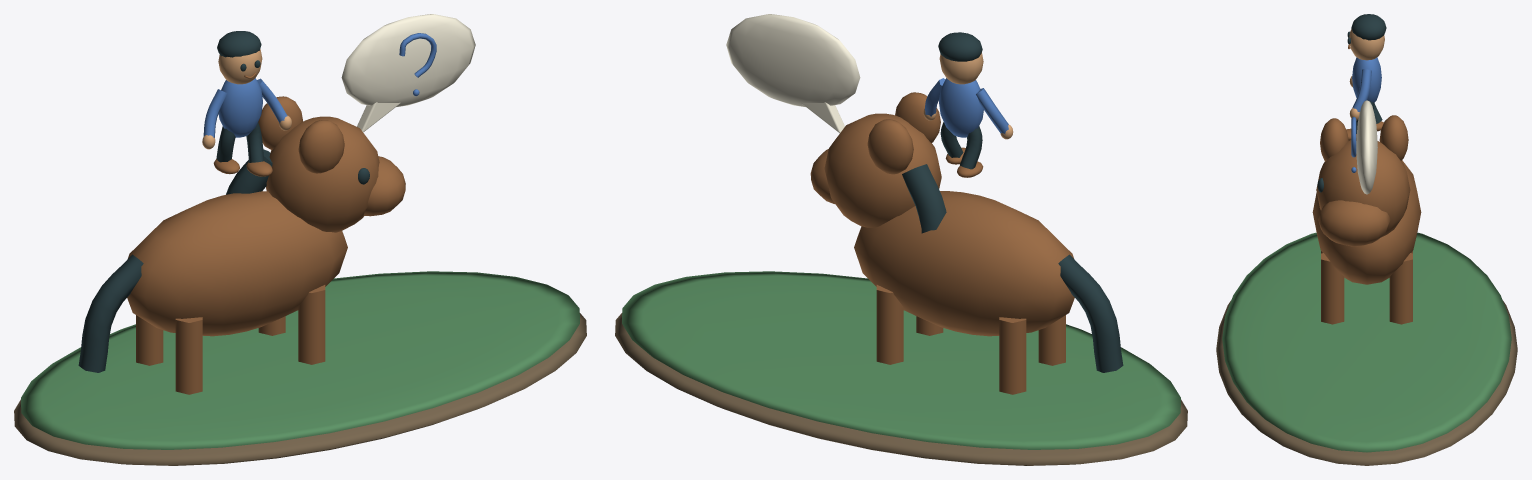
The model's file is complete-second-strange-rider.glb.
3 views of the same model, side by side, from view 1: azimuth 30°, elevation 25°; view 2: azimuth 150°, elevation 25°; view 3: azimuth 270°, elevation 25° (orthographic). The views are drawn at different scales.
Visible parts, largest first — view 1: complete-second-strange-rider_surface_01, complete-second-strange-rider_surface_02, complete-second-strange-rider_surface_00, complete-second-strange-rider_surface_04, complete-second-strange-rider_surface_03, complete-second-strange-rider_surface_05, complete-second-strange-rider_surface_06; view 2: complete-second-strange-rider_surface_01, complete-second-strange-rider_surface_02, complete-second-strange-rider_surface_00, complete-second-strange-rider_surface_04, complete-second-strange-rider_surface_03, complete-second-strange-rider_surface_05, complete-second-strange-rider_surface_06; view 3: complete-second-strange-rider_surface_01, complete-second-strange-rider_surface_02, complete-second-strange-rider_surface_00, complete-second-strange-rider_surface_04, complete-second-strange-rider_surface_05, complete-second-strange-rider_surface_03, complete-second-strange-rider_surface_06.
Part boxes in pixels (x1,y1,x2,y2): complete-second-strange-rider_surface_01: (21, 271, 579, 449); complete-second-strange-rider_surface_02: (127, 72, 405, 394); complete-second-strange-rider_surface_00: (14, 313, 586, 465); complete-second-strange-rider_surface_04: (341, 14, 475, 132); complete-second-strange-rider_surface_03: (78, 31, 369, 372); complete-second-strange-rider_surface_05: (203, 33, 436, 137); complete-second-strange-rider_surface_06: (202, 49, 291, 149); complete-second-strange-rider_surface_01: (622, 271, 1180, 449); complete-second-strange-rider_surface_02: (810, 92, 1074, 394); complete-second-strange-rider_surface_00: (615, 313, 1187, 465); complete-second-strange-rider_surface_04: (726, 14, 860, 133); complete-second-strange-rider_surface_03: (902, 32, 1123, 372); complete-second-strange-rider_surface_05: (924, 78, 1008, 137); complete-second-strange-rider_surface_06: (923, 52, 1013, 139); complete-second-strange-rider_surface_01: (1222, 232, 1511, 452); complete-second-strange-rider_surface_02: (1312, 44, 1421, 324); complete-second-strange-rider_surface_00: (1216, 301, 1517, 465); complete-second-strange-rider_surface_04: (1356, 100, 1377, 194); complete-second-strange-rider_surface_05: (1351, 57, 1381, 172); complete-second-strange-rider_surface_03: (1317, 14, 1386, 192); complete-second-strange-rider_surface_06: (1349, 29, 1384, 120).
Bounding box in the file's own units: 4.56 × 2.94 × 2.5.
